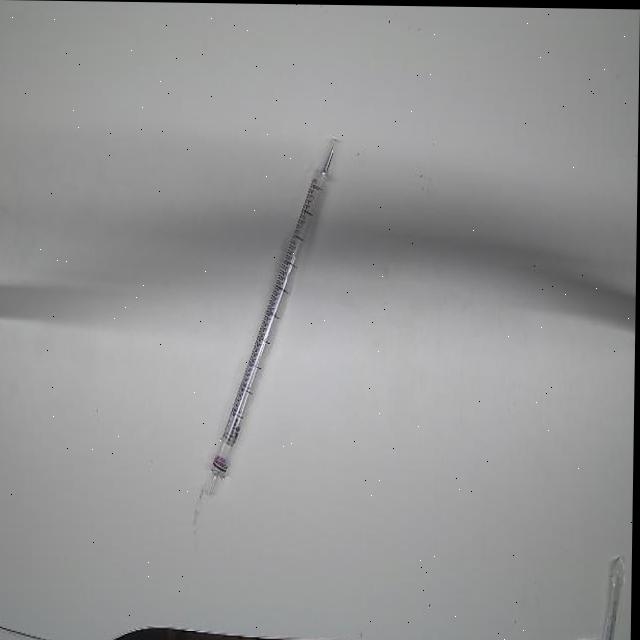Serelogical Pipet 50 mL: (208, 127, 347, 501)
